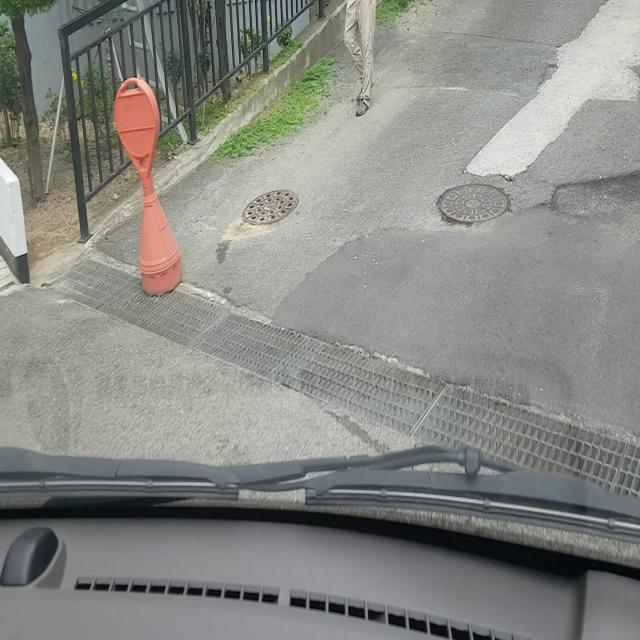Pothole: (435, 180, 514, 227)
